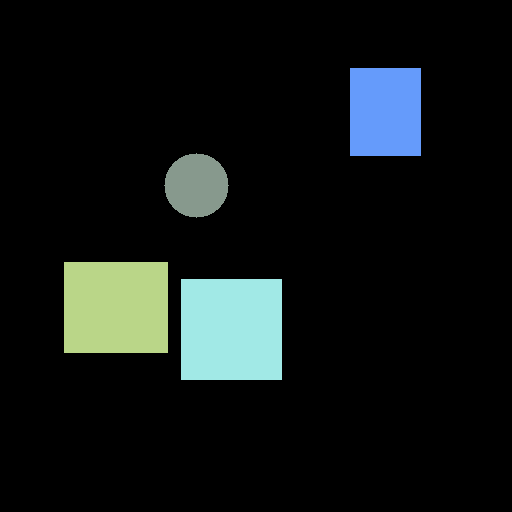circle: (164, 153, 228, 217)
rectangle: (64, 262, 167, 352), (350, 68, 420, 155)
square: (181, 279, 281, 379)
